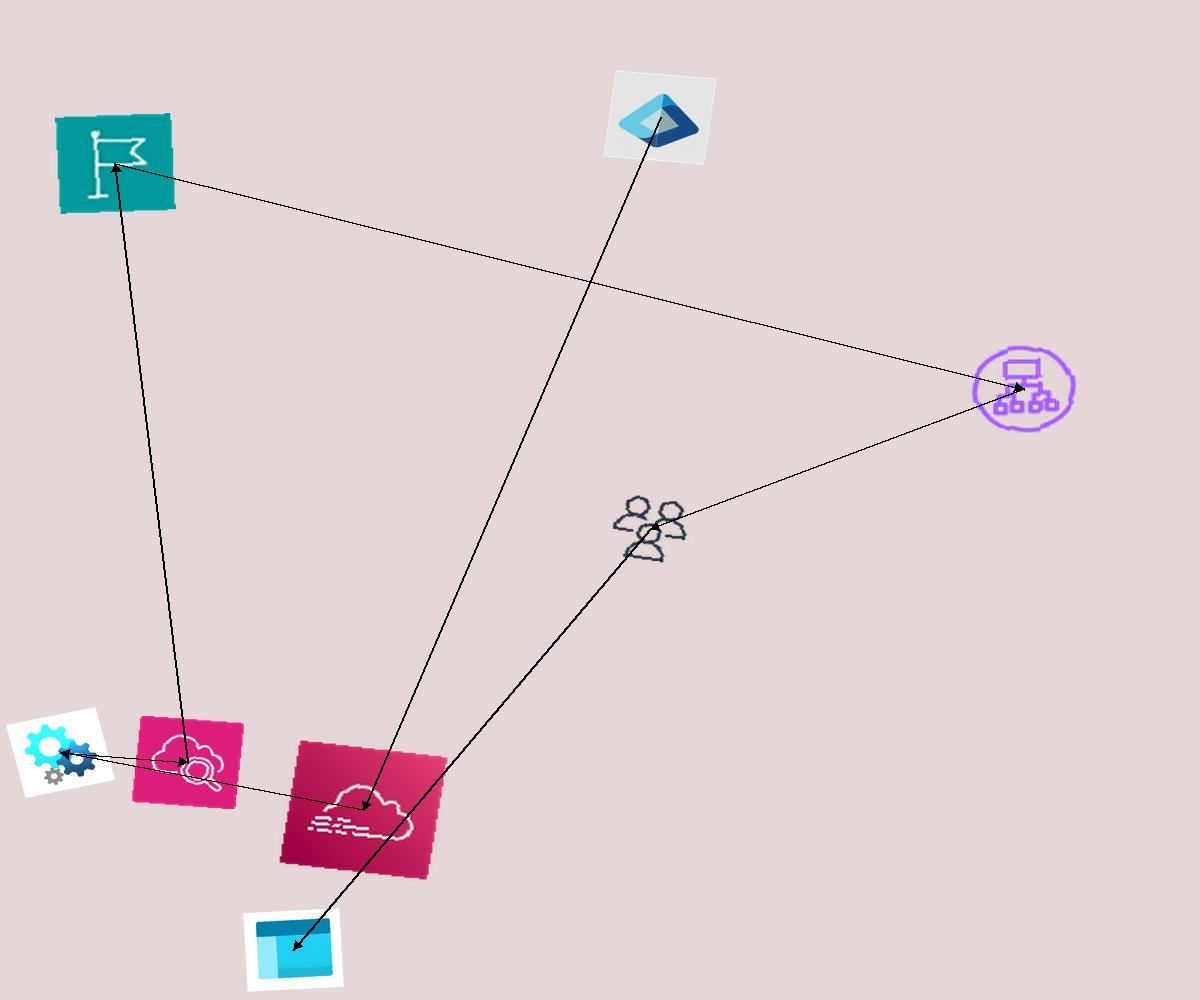AWS-CloudTrail: (278, 739, 449, 881)
AWS-CloudWatch: (131, 715, 245, 810)
AWS-Region: (55, 113, 176, 214)
AWS-Res_Elastic-Load-Balancing_Application-Load-Balancer: (963, 338, 1085, 440)
AWS-Res_Users: (603, 490, 697, 568)
Azure_api: (6, 707, 115, 798)
Azure_management-portal: (243, 908, 344, 992)
Azure_microsoft_entra: (603, 70, 717, 165)
